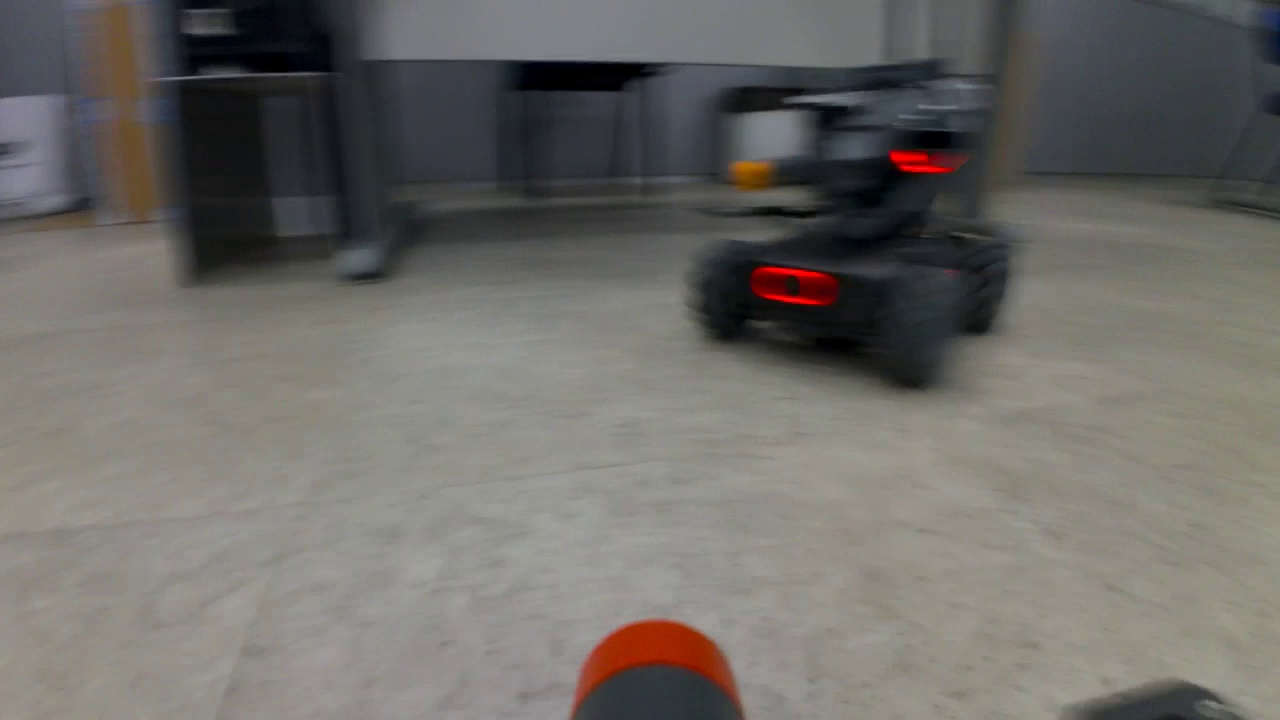robot: (682, 64, 1016, 392)
